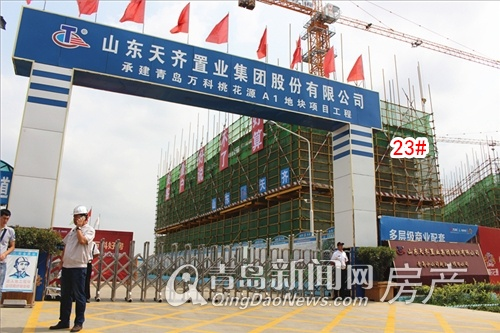none: (1, 207, 12, 228)
white: (70, 203, 89, 227)
